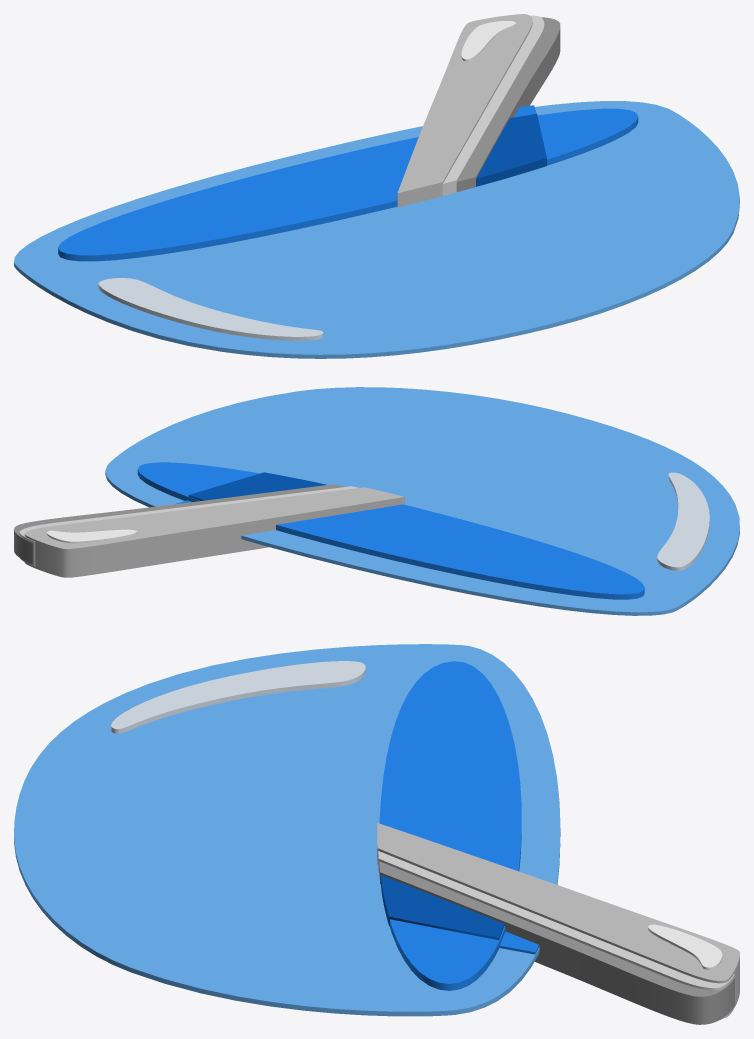
The model's file is emoji_u1f963.glb.
3 renders of one model, top to bottom at view 1: azimuth 30°, elevation 25°; view 2: azimuth 150°, elevation 25°; view 3: azimuth 270°, elevation 25°, orthographic. The views are drawn at different scales.
Visible parts, largest first — view 1: emoji_u1f963; view 2: emoji_u1f963; view 3: emoji_u1f963.
Part boxes in pixels (x1=…): emoji_u1f963: x1=14, y1=14, x2=739, y2=358; emoji_u1f963: x1=14, y1=387, x2=739, y2=615; emoji_u1f963: x1=14, y1=644, x2=739, y2=1024.
Bounding box in the file's own units: 0.0337 × 0.0018 × 0.0281.
